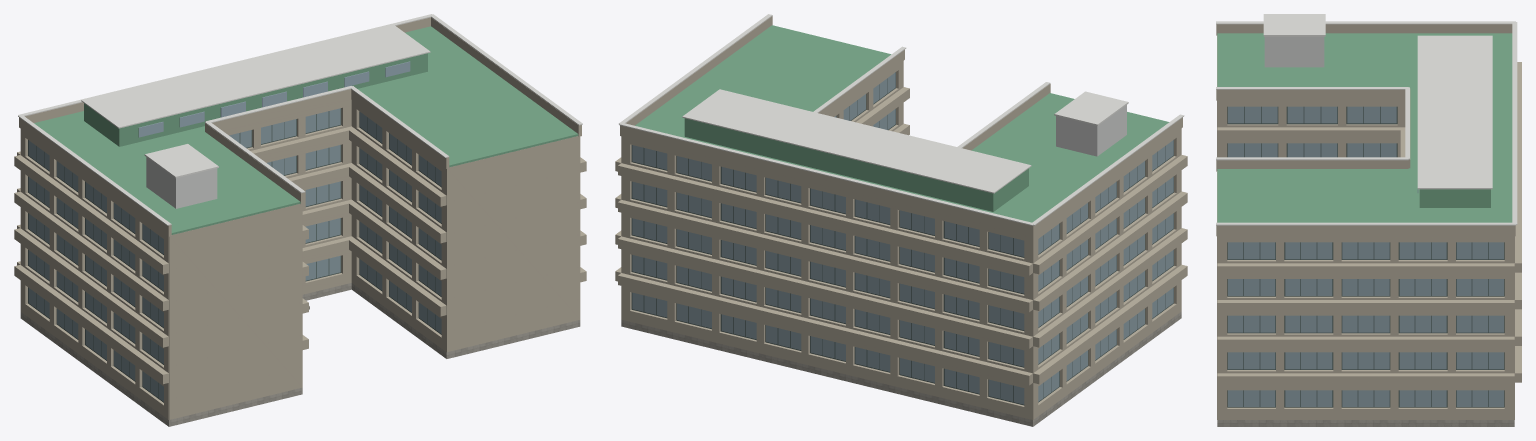
The picture shows the model from 3 angles, left to right: view 1: azimuth 30°, elevation 25°; view 2: azimuth 150°, elevation 25°; view 3: azimuth 270°, elevation 25°; orthographic projection.
Visible parts, largest first — view 1: court-wing__plaster, court-wing__greenroof, court-wing__glass, court-wing__cap, court-wing__stone, court-wing__frame, court-wing__roofbox, court-wing__stairglass; view 2: court-wing__plaster, court-wing__glass, court-wing__greenroof, court-wing__cap, court-wing__frame, court-wing__stone, court-wing__roofbox; view 3: court-wing__plaster, court-wing__greenroof, court-wing__glass, court-wing__cap, court-wing__frame, court-wing__stone, court-wing__roofbox.
Part boxes in pixels (box(x1,y1,x2,y2)): court-wing__plaster: box(14, 17, 586, 419); court-wing__greenroof: box(34, 26, 578, 234); court-wing__glass: box(28, 108, 441, 401); court-wing__cap: box(18, 14, 582, 225); court-wing__stone: box(20, 283, 580, 426); court-wing__frame: box(28, 108, 441, 402); court-wing__roofbox: box(146, 157, 217, 208); court-wing__stairglass: box(138, 61, 410, 137); court-wing__plaster: box(615, 16, 1187, 419); court-wing__glass: box(632, 72, 1173, 404); court-wing__greenroof: box(635, 25, 1169, 222); court-wing__cap: box(619, 14, 1184, 225); court-wing__frame: box(631, 72, 1173, 405); court-wing__stone: box(621, 311, 1181, 426); court-wing__roofbox: box(1056, 105, 1126, 156); court-wing__plaster: box(1216, 24, 1521, 419); court-wing__greenroof: box(1217, 33, 1512, 222); court-wing__glass: box(1228, 106, 1503, 406); court-wing__cap: box(1216, 14, 1517, 225); court-wing__frame: box(1227, 106, 1504, 407); court-wing__stone: box(1217, 420, 1514, 426); court-wing__roofbox: box(1264, 36, 1324, 67).
Size of the model in its own units: 41.2 by 20.98 by 25.7.
Materials: 10 (2 with a texture image).
